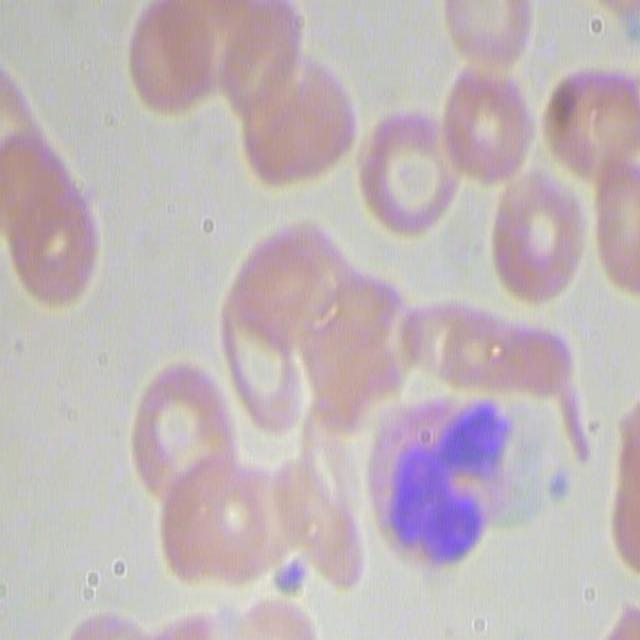RBC: (220, 229, 341, 473), (350, 279, 577, 392), (151, 459, 283, 589), (0, 129, 96, 307), (231, 63, 360, 190), (356, 112, 462, 252), (130, 365, 237, 498), (486, 171, 590, 301), (435, 65, 532, 188), (124, 2, 228, 116), (586, 154, 640, 290), (443, 0, 535, 69), (99, 616, 349, 640), (624, 396, 640, 613)
WBC: (372, 403, 518, 568)
platelets: (274, 550, 325, 611)
